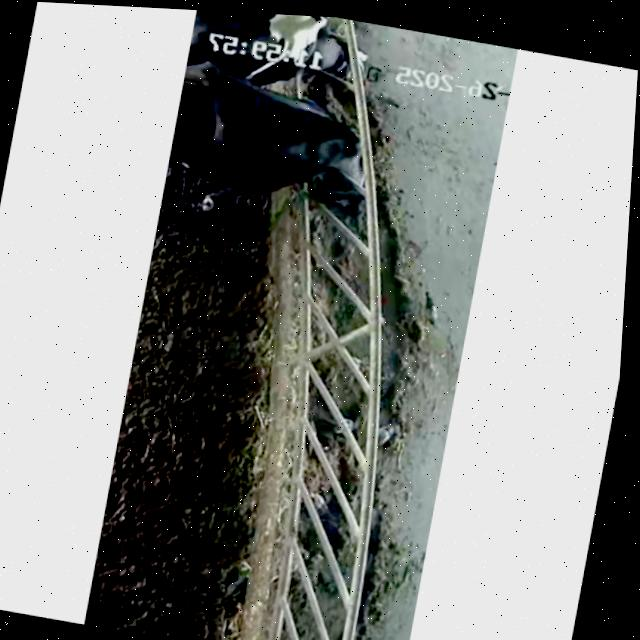eat: (217, 71, 410, 250)
